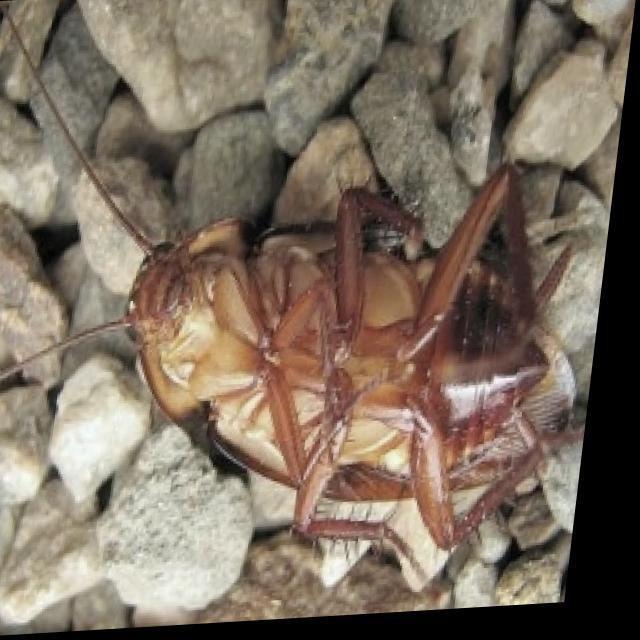cockroach: (82, 168, 609, 566)
